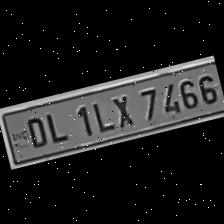1: (67, 100, 97, 140)
4: (154, 79, 180, 117)
6: (173, 74, 200, 111), (194, 68, 220, 106)
7: (130, 84, 162, 123)
D: (19, 111, 49, 150)
L: (40, 104, 72, 146), (84, 95, 114, 135)
X: (105, 91, 137, 131)
